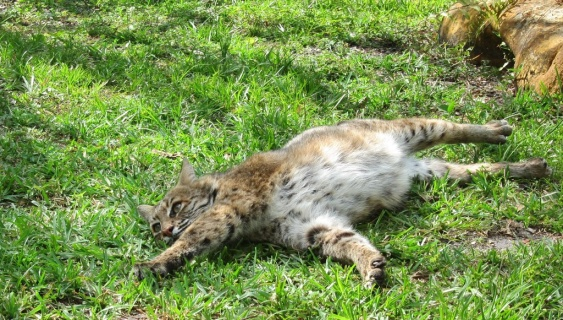Cat: (127, 114, 552, 288)
